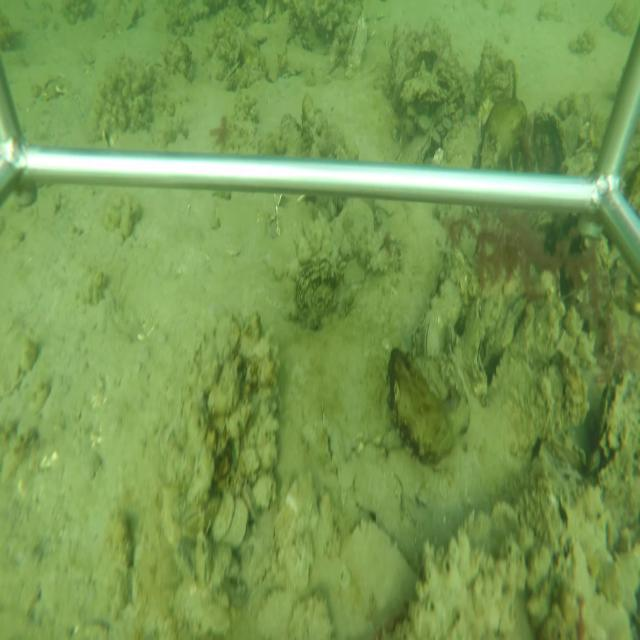Oyster-Closed: (391, 348, 454, 459), (414, 277, 461, 357), (460, 299, 485, 386), (343, 12, 366, 76), (418, 313, 440, 362), (446, 323, 455, 349)
Oyster-Indeterminate: (338, 512, 423, 612), (246, 103, 316, 154), (478, 97, 527, 168), (210, 490, 238, 545), (224, 493, 248, 552)
Oyster-Open: (590, 376, 627, 480)
